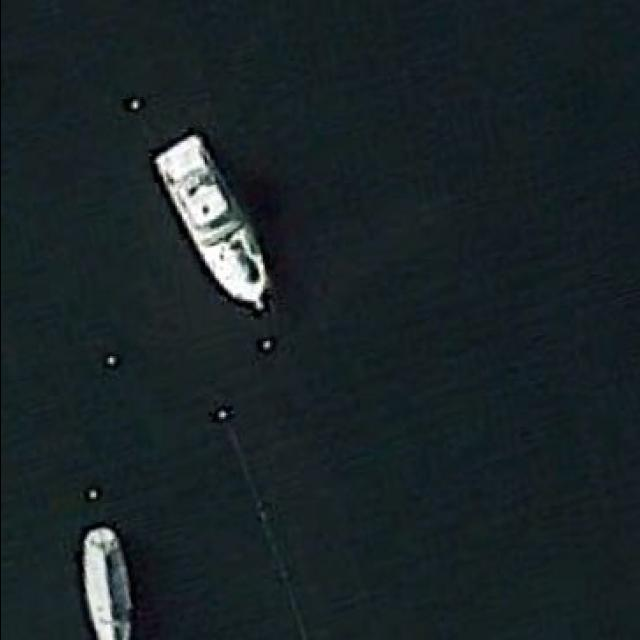ship: (151, 135, 271, 316)
